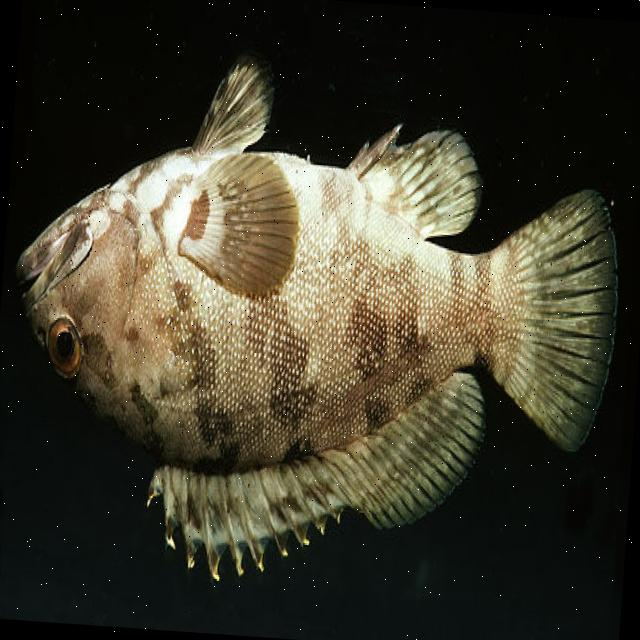ikan: (0, 39, 633, 612)
